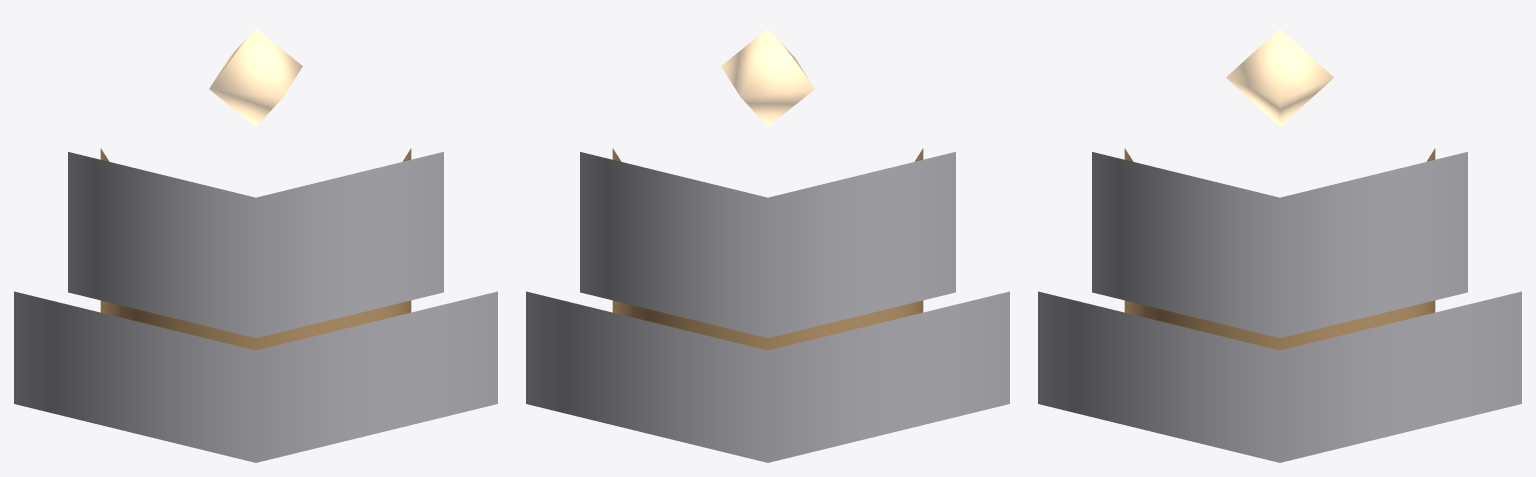
File: tuercas_gigantes.glb
The picture shows the model from 3 angles, left to right: view 1: azimuth 30°, elevation 25°; view 2: azimuth 150°, elevation 25°; view 3: azimuth 270°, elevation 25°; orthographic projection.
Parts seen in each view (by area): view 1: Base, Glow, Accent; view 2: Base, Glow, Accent; view 3: Base, Glow, Accent.
Part boxes in pixels (<box>): Base: <box>14,152,497,462</box>; Glow: <box>209,29,302,126</box>; Accent: <box>100,148,411,350</box>; Base: <box>526,152,1009,462</box>; Glow: <box>721,29,814,126</box>; Accent: <box>612,148,923,350</box>; Base: <box>1038,152,1521,462</box>; Glow: <box>1226,29,1333,126</box>; Accent: <box>1124,148,1435,350</box>.
Size of the model in its own units: 0.36 by 0.225 by 0.3118.
